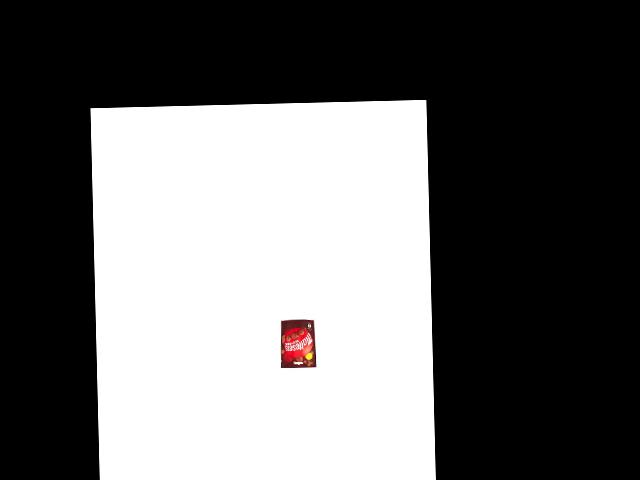chocolate: (279, 318, 316, 369)
